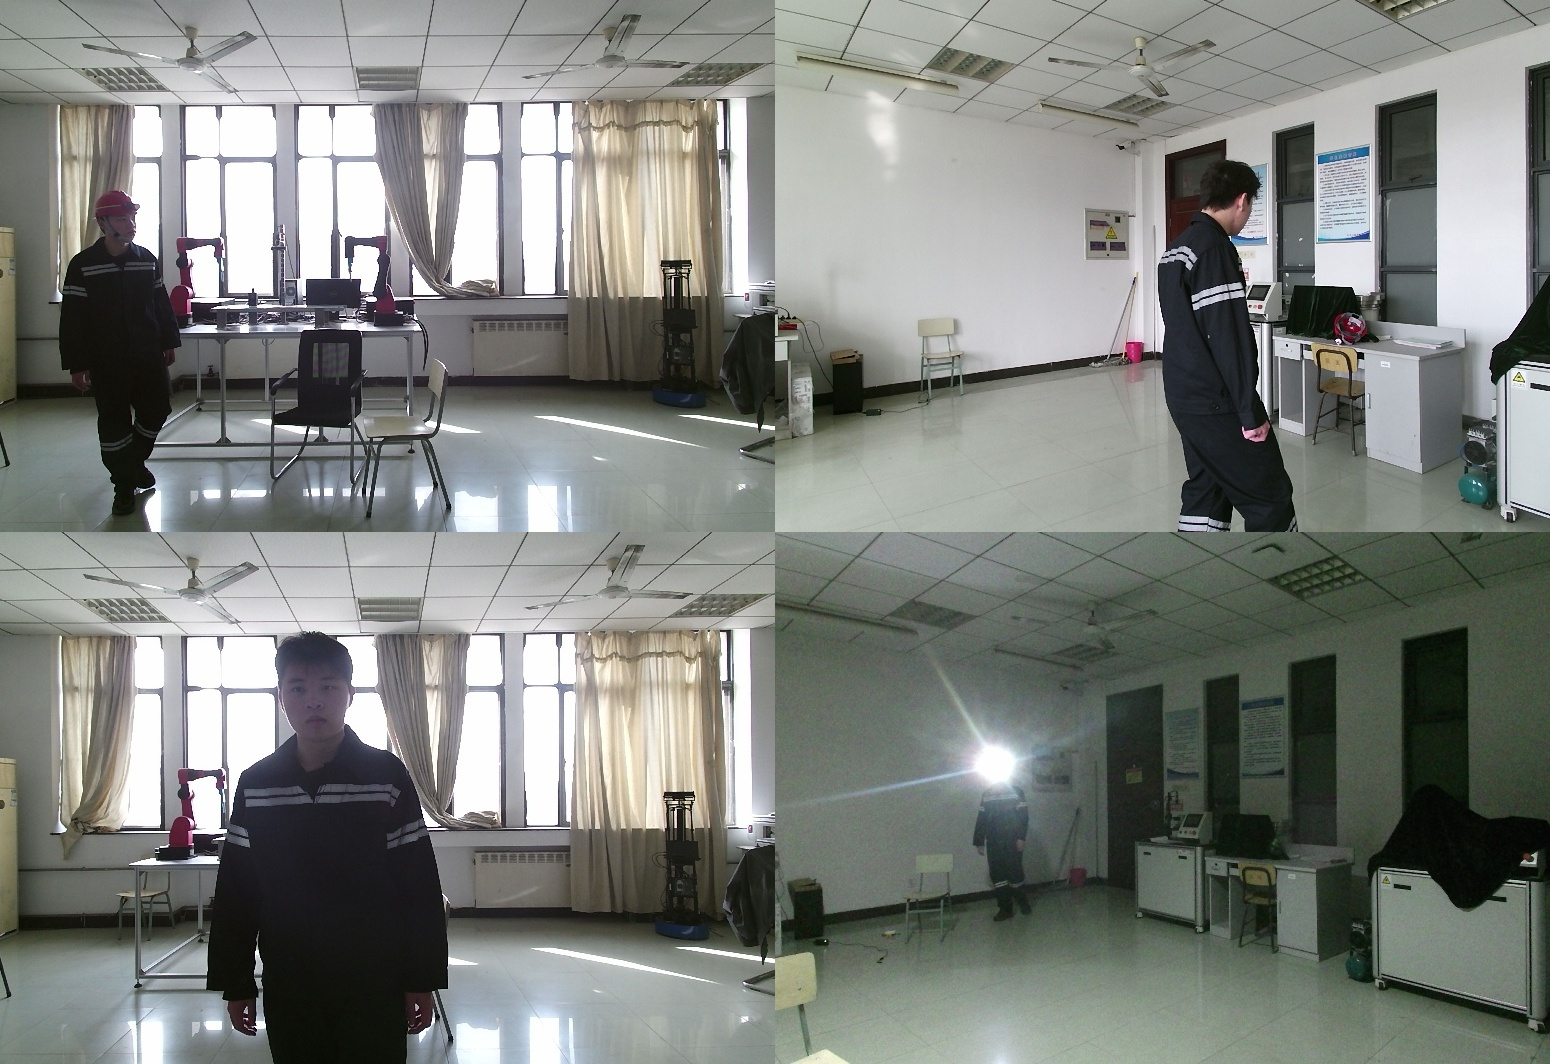person: (220, 632, 459, 1064), (1159, 156, 1287, 532), (53, 189, 183, 524), (972, 761, 1034, 930)
